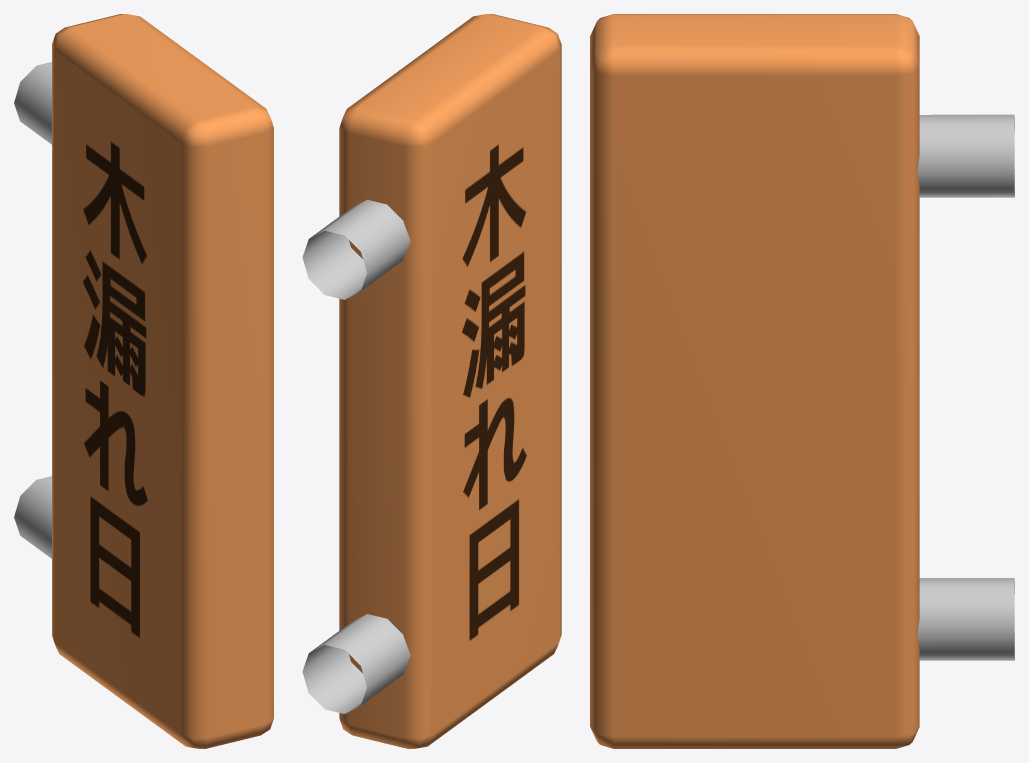
File: Wall_Sign.obj
3 renders of one model, left to right at view 1: azimuth 30°, elevation 25°; view 2: azimuth 150°, elevation 25°; view 3: azimuth 270°, elevation 25°, orthographic. The views are drawn at different scales.
Parts seen in each view (by area): view 1: Wall_Sign_SignSG, Wall_Sign_Tube3SG; view 2: Wall_Sign_SignSG, Wall_Sign_Tube3SG; view 3: Wall_Sign_SignSG, Wall_Sign_Tube3SG.
Part boxes in pixels (box(x1,y1,x2,y2)): Wall_Sign_SignSG: box(52, 14, 273, 748); Wall_Sign_Tube3SG: box(14, 62, 51, 558); Wall_Sign_SignSG: box(339, 14, 561, 748); Wall_Sign_Tube3SG: box(302, 199, 410, 713); Wall_Sign_SignSG: box(590, 14, 919, 748); Wall_Sign_Tube3SG: box(917, 114, 1014, 660).
Size of the model in its own units: 1.46 by 9.62 by 5.26.
Materials: 2 (2 with a texture image).
